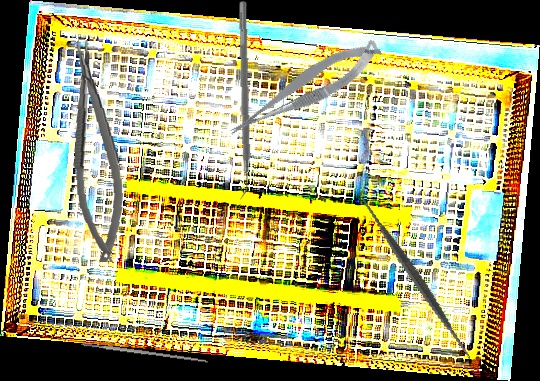Micro Scissor: (218, 33, 390, 143)
Needle Holder: (64, 38, 129, 264)
Scalpel Handle: (81, 341, 209, 364)
Spatula Surgical: (324, 187, 508, 370), (230, 0, 254, 202)
